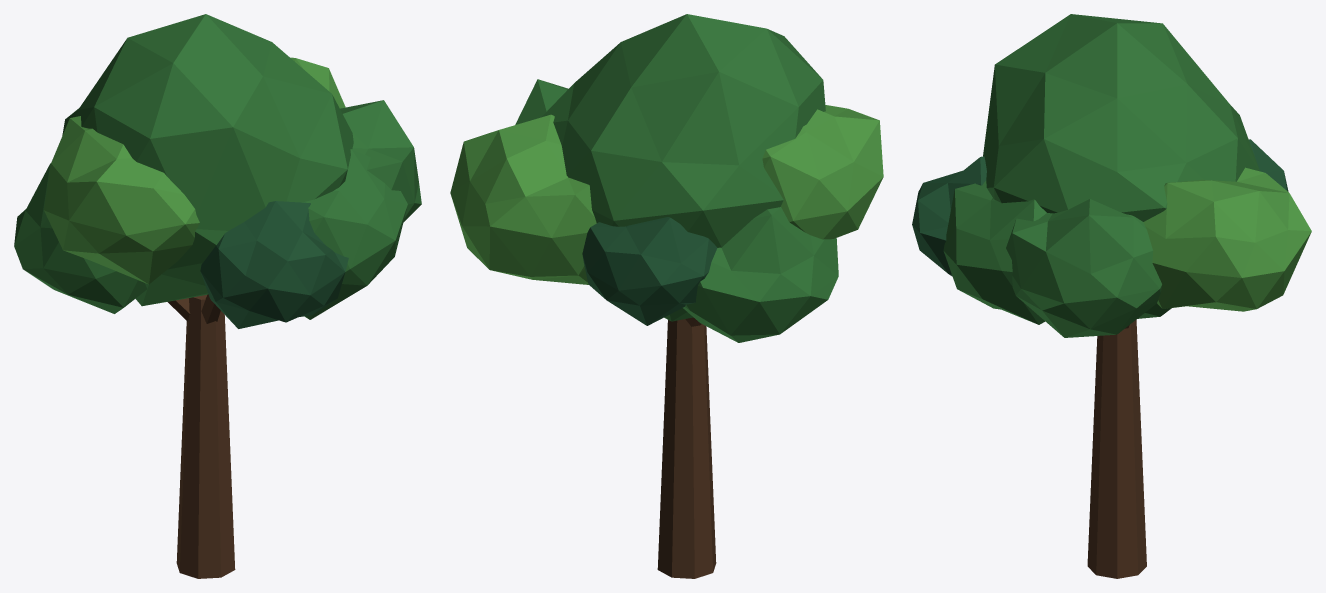
Rendered from broadleaf.glb.
3 views of the same model, side by side, from view 1: azimuth 30°, elevation 25°; view 2: azimuth 150°, elevation 25°; view 3: azimuth 270°, elevation 25° (orthographic).
Parts seen in each view (by area): view 1: BroadleafMesh; view 2: BroadleafMesh; view 3: BroadleafMesh.
Part boxes in pixels (x1,y1,x2,y2): BroadleafMesh: [14, 14, 421, 578]; BroadleafMesh: [450, 14, 883, 578]; BroadleafMesh: [912, 14, 1311, 578].
Bounding box in the file's own units: 3.54 × 5.24 × 3.49.
